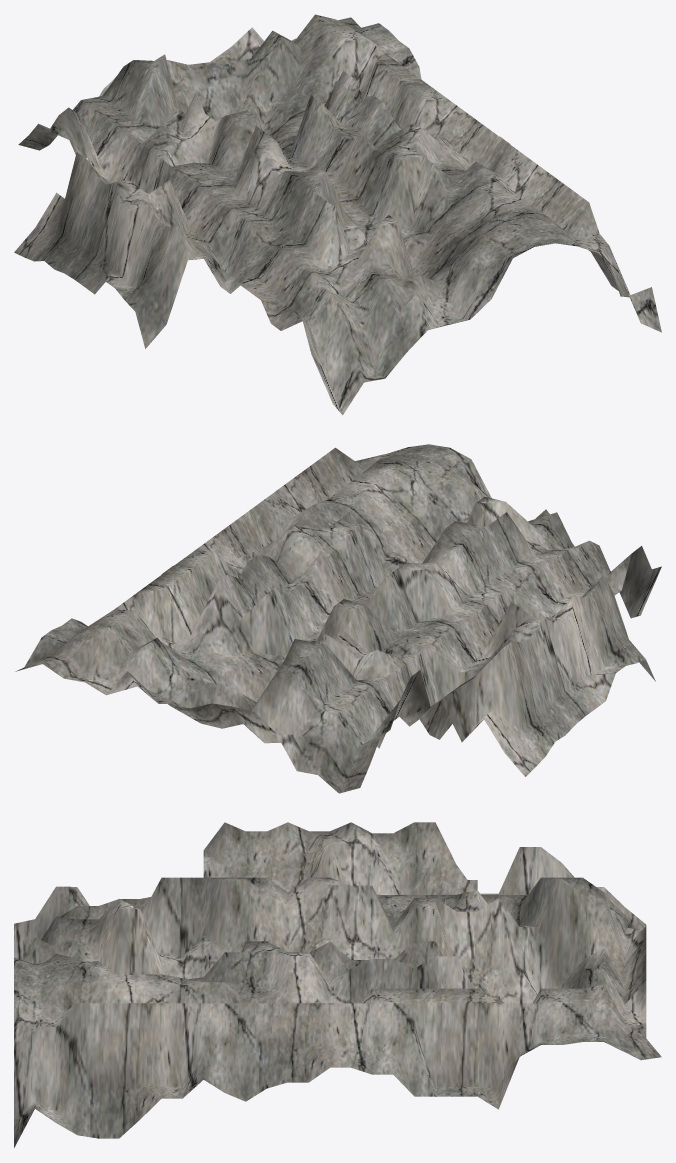
The model's file is DWARF_PALACE_ARKENSTONE_ROOM_CELLING.obj.
3 views of the same model, one above another, from view 1: azimuth 30°, elevation 25°; view 2: azimuth 150°, elevation 25°; view 3: azimuth 270°, elevation 25° (orthographic). The views are drawn at different scales.
Visible parts, largest first — view 1: ne_room_celling; view 2: ne_room_celling; view 3: ne_room_celling.
Boxes of the visible parts, box(x1,y1,x2,y2) form: ne_room_celling: box(14, 14, 661, 415); ne_room_celling: box(15, 444, 661, 793); ne_room_celling: box(14, 822, 661, 1147).
Bounding box in the file's own units: 3787 × 1260 × 4790.
